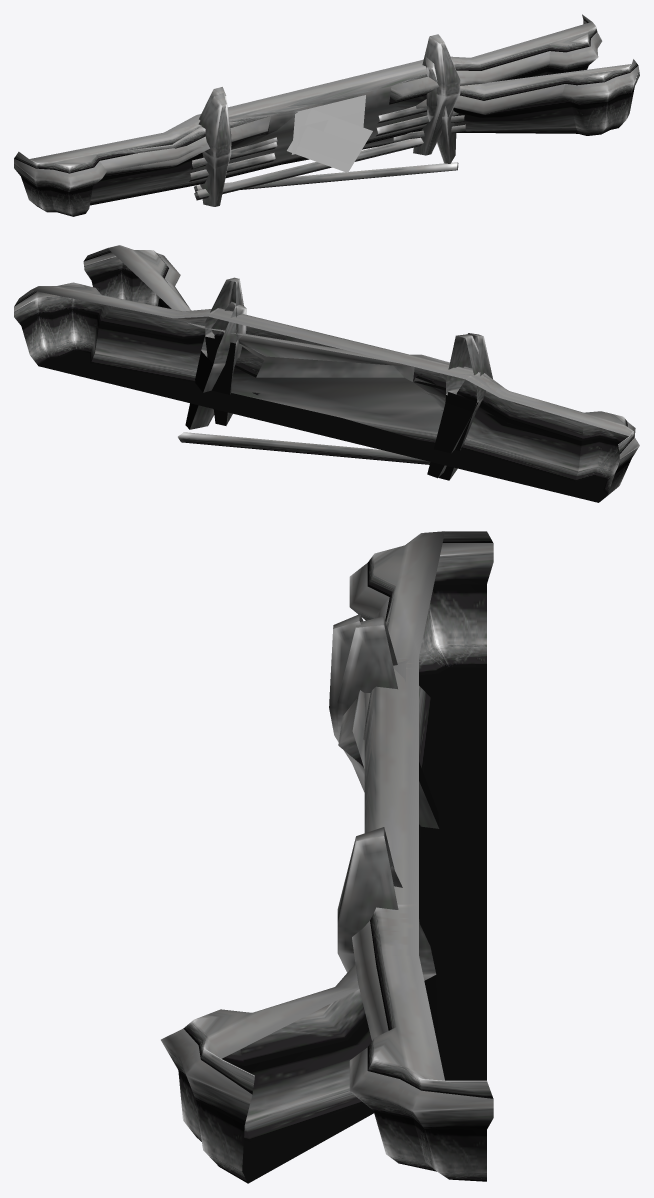
Rendered from rbmp_lr_sv2.glb.
3 views of the same model, one above another, from view 1: azimuth 30°, elevation 25°; view 2: azimuth 150°, elevation 25°; view 3: azimuth 270°, elevation 25° (orthographic). The views are drawn at different scales.
Parts seen in each view (by area): view 1: rbmp_lr_sv2, rbmp_lr_sv2_dam; view 2: rbmp_lr_sv2_dam, rbmp_lr_sv2; view 3: rbmp_lr_sv2, rbmp_lr_sv2_dam.
Part boxes in pixels (box(x1,y1,x2,y2)): rbmp_lr_sv2: box(31, 14, 602, 206); rbmp_lr_sv2_dam: box(14, 57, 639, 216); rbmp_lr_sv2_dam: box(83, 245, 639, 502); rbmp_lr_sv2: box(14, 277, 627, 502); rbmp_lr_sv2: box(337, 532, 493, 1181); rbmp_lr_sv2_dam: box(161, 531, 493, 1183).
Size of the model in its own units: 2.41 by 0.6155 by 0.6106.
4 materials, 4 textured.
